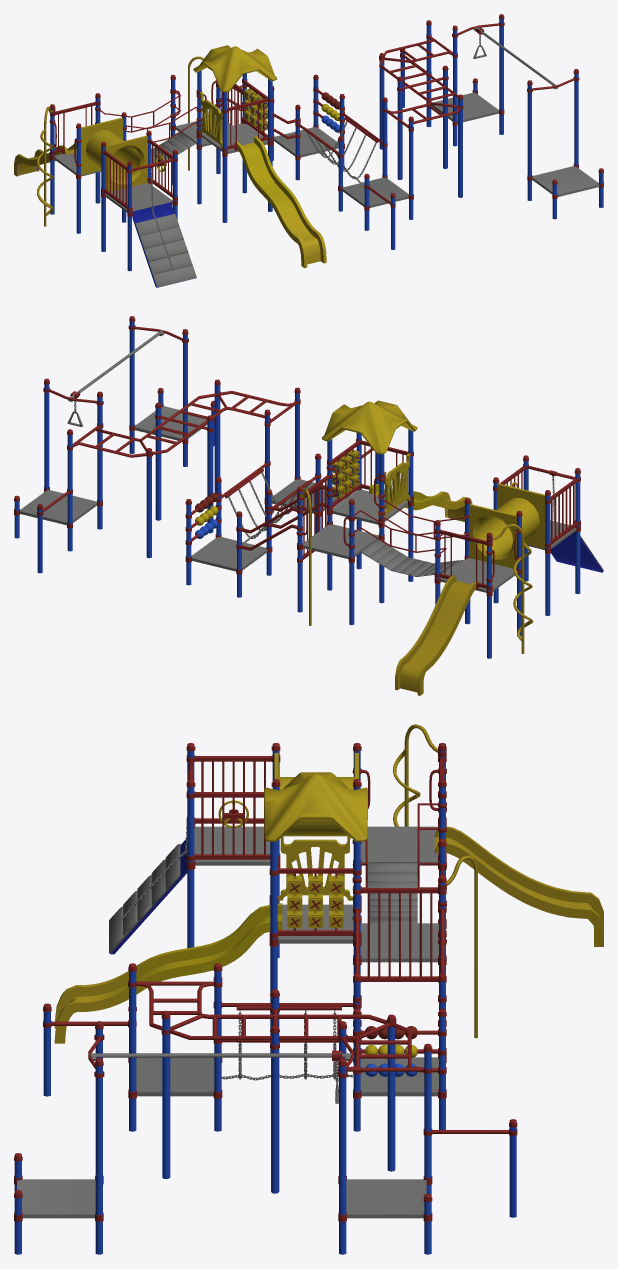
Rendered from playground.glb.
3 renders of one model, top to bottom at view 1: azimuth 30°, elevation 25°; view 2: azimuth 150°, elevation 25°; view 3: azimuth 270°, elevation 25°, orthographic. The views are drawn at different scales.
Visible parts, largest first — view 1: Long slide.001_64, climbing wall_10, Crawl Tube.001_16, Roof_89, Monkey Bars.001_65, Platforms.007_84, Platforms.006_83, Platforms.005_82, Platforms.003_80, Platforms.004_81, Decorative side panel_53, Cylinder.356Blue poles_52 (+31 smaller); view 2: Crawl Tube.001_16, short slide.001_90, Roof_89, Monkey Bars.001_65, Bridge_4, Platforms.005_82, Platforms.001_78, Platforms.004_81, Platforms_77, Platforms.002_79, Long slide.001_64, Platforms.007_84 (+30 smaller); view 3: Long slide.001_64, Roof_89, short slide.001_90, Monkey Bars.001_65, Platforms.004_81, Platforms.007_84, climbing wall_10, Platforms.006_83, Platforms.001_78, Platforms_77, Bridge_4, Big Rail Guard_3 (+28 smaller).
Boxes of the visible parts, x1=… form: Long slide.001_64: x1=234, y1=136, x2=326, y2=268; climbing wall_10: x1=132, y1=202, x2=196, y2=287; Crawl Tube.001_16: x1=81, y1=117, x2=147, y2=191; Roof_89: x1=193, y1=45, x2=276, y2=92; Monkey Bars.001_65: x1=379, y1=36, x2=459, y2=128; Platforms.007_84: x1=532, y1=166, x2=599, y2=196; Platforms.006_83: x1=342, y1=177, x2=408, y2=207; Platforms.005_82: x1=273, y1=127, x2=338, y2=157; Platforms.003_80: x1=105, y1=183, x2=172, y2=212; Platforms.004_81: x1=431, y1=92, x2=498, y2=123; Decorative side panel_53: x1=199, y1=91, x2=222, y2=148; Cylinder.356Blue poles_52: x1=222, y1=92, x2=227, y2=222; Crawl Tube.001_16: x1=469, y1=483, x2=545, y2=568; short slide.001_90: x1=395, y1=575, x2=478, y2=695; Roof_89: x1=322, y1=400, x2=417, y2=454; Monkey Bars.001_65: x1=72, y1=390, x2=296, y2=457; Bridge_4: x1=360, y1=539, x2=464, y2=576; Platforms.005_82: x1=192, y1=537, x2=267, y2=571; Platforms.001_78: x1=303, y1=524, x2=378, y2=558; Platforms.004_81: x1=20, y1=490, x2=97, y2=525; Platforms_77: x1=440, y1=558, x2=517, y2=592; Platforms.002_79: x1=332, y1=489, x2=407, y2=524; Long slide.001_64: x1=369, y1=484, x2=472, y2=521; Platforms.007_84: x1=134, y1=406, x2=207, y2=440; Long slide.001_64: x1=54, y1=903, x2=282, y2=1043; Roof_89: x1=264, y1=772, x2=367, y2=841; short slide.001_90: x1=434, y1=826, x2=603, y2=946; Monkey Bars.001_65: x1=136, y1=981, x2=423, y2=1071; Platforms.004_81: x1=346, y1=1179, x2=426, y2=1218; Platforms.007_84: x1=17, y1=1179, x2=95, y2=1218; climbing wall_10: x1=109, y1=838, x2=187, y2=954; Platforms.006_83: x1=136, y1=1057, x2=214, y2=1096; Platforms.001_78: x1=360, y1=923, x2=438, y2=962; Platforms_77: x1=360, y1=826, x2=438, y2=865; Bridge_4: x1=367, y1=863, x2=417, y2=923; Big Rail Guard_3: x1=361, y1=888, x2=437, y2=981.
Size of the model in its own units: 2.02 by 0.6925 by 1.42.
Materials: 1 (1 with a texture image).
